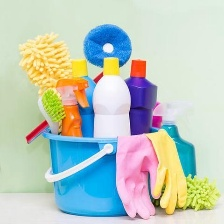cleaning_solution: (61, 56, 117, 198), (114, 56, 159, 200), (91, 55, 133, 206), (146, 97, 199, 205), (51, 73, 91, 198)
